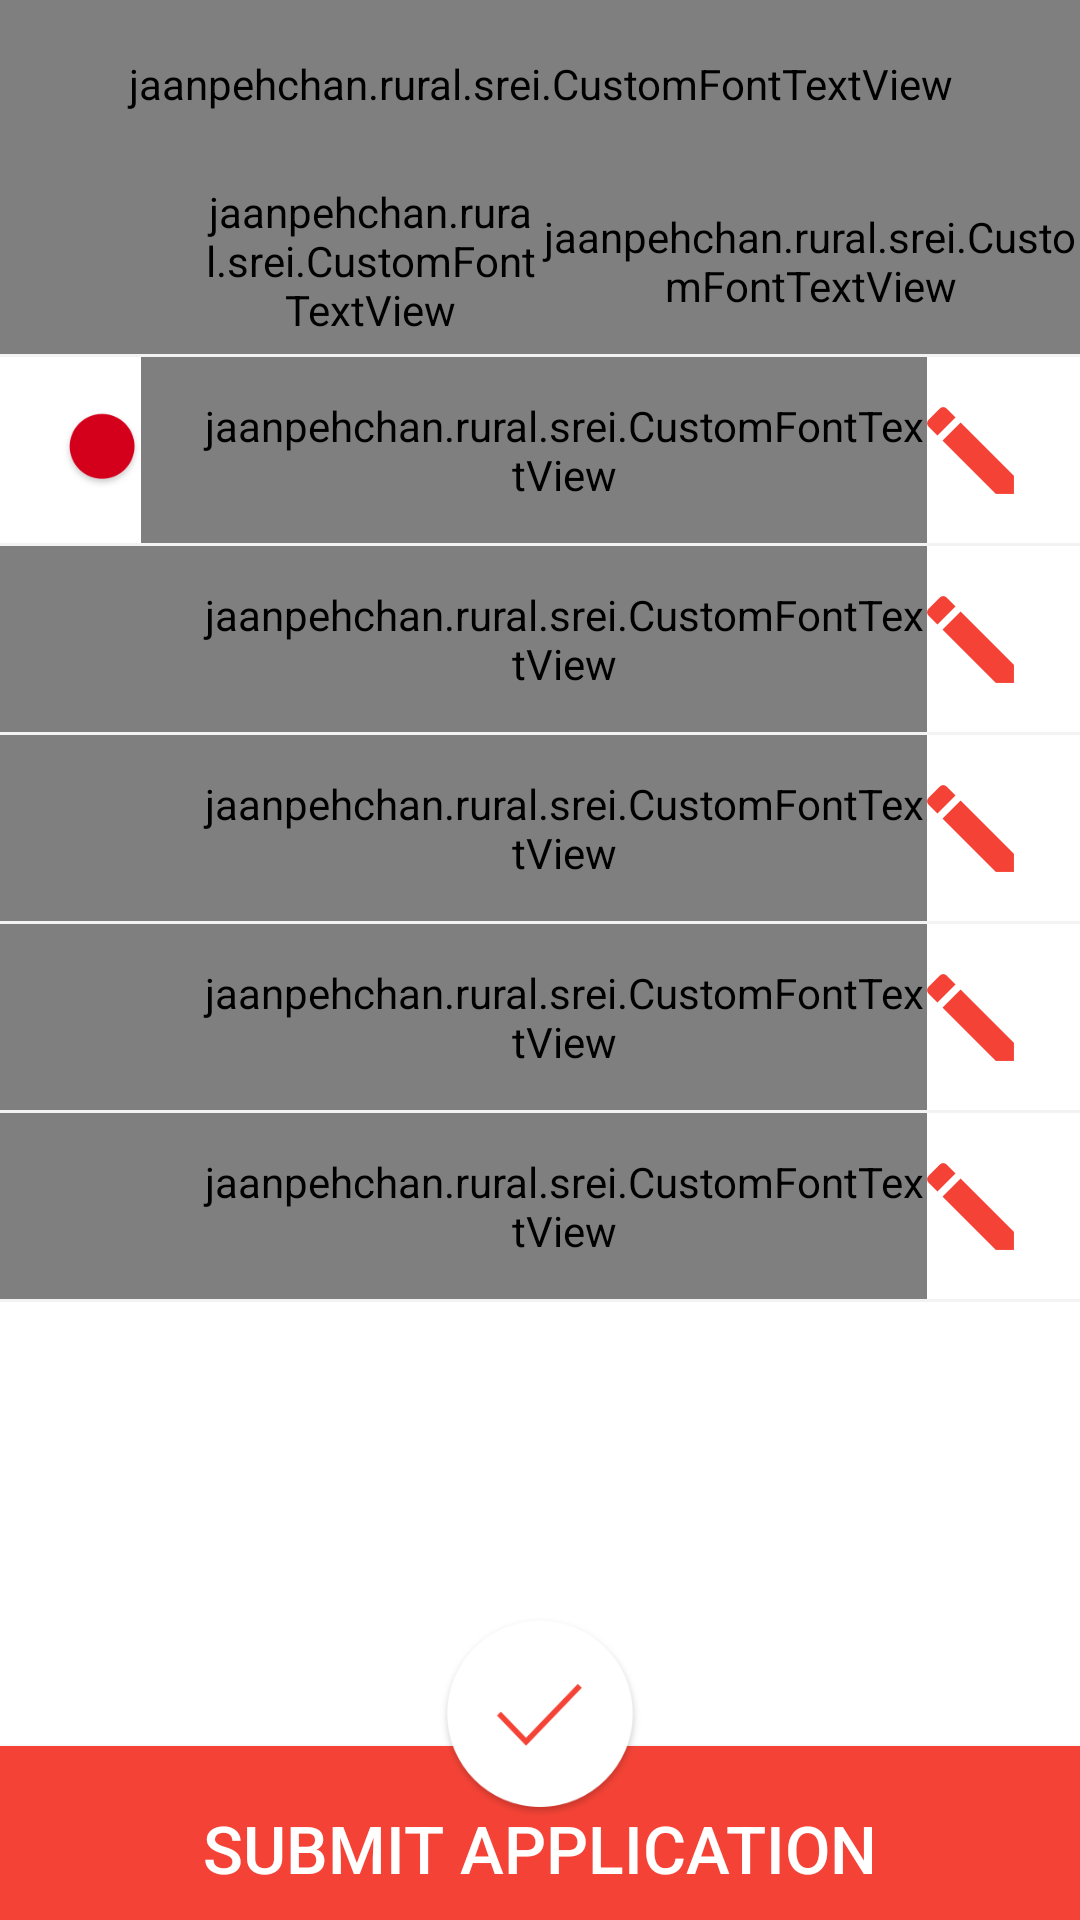

Where to tap for icons on this 1080px x 1920px app screen, as [x,y]:
modify edit: [978,458], [978,647], [978,836], [978,1025], [978,1214]
